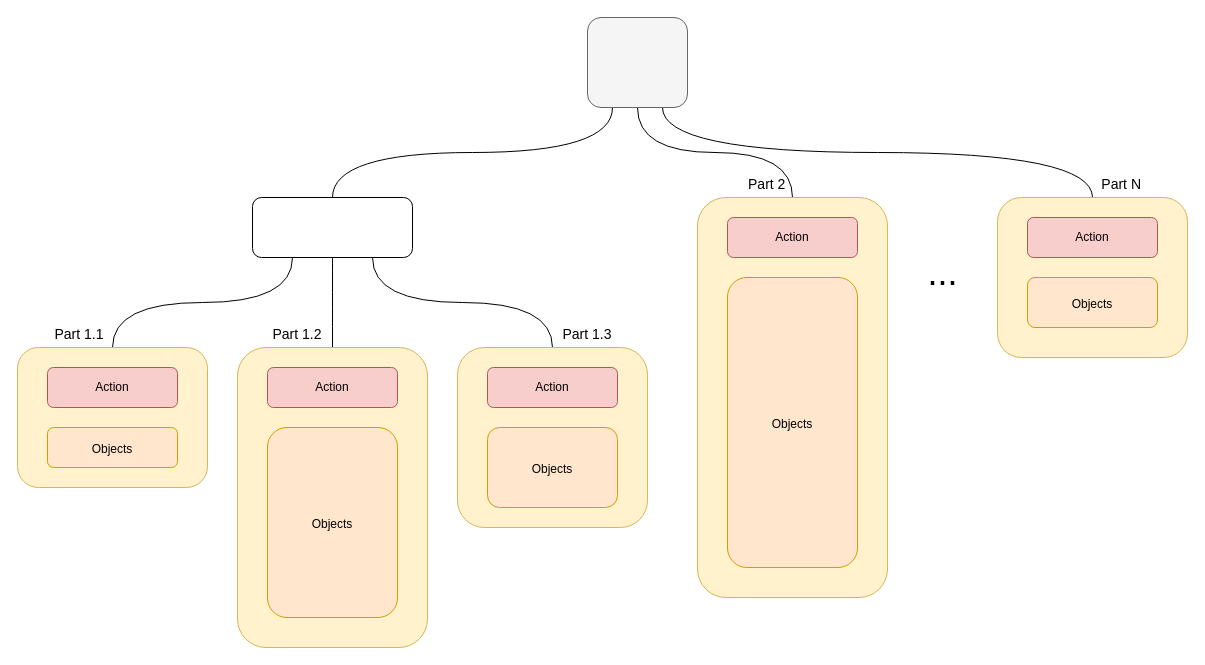
Image size: 1205x665. Some labels were removed from this diagram. The shapes that lost their labels are listed below. From the top down, each one's centre as x and y in pixels, then its label:
point (637, 62): Work
point (332, 227): Part 1 (composite)
